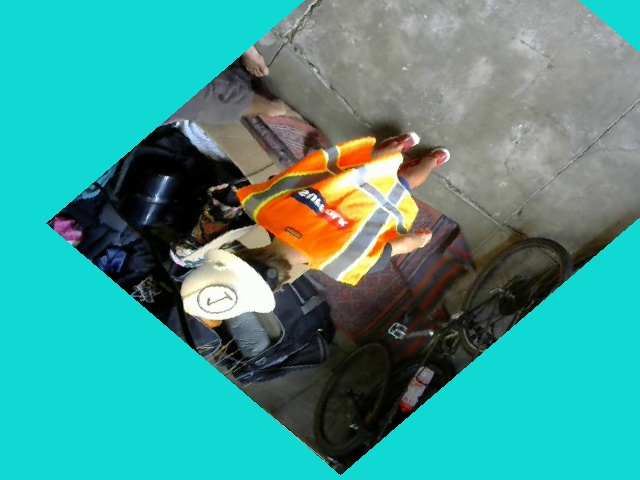one: (188, 278, 241, 319)
